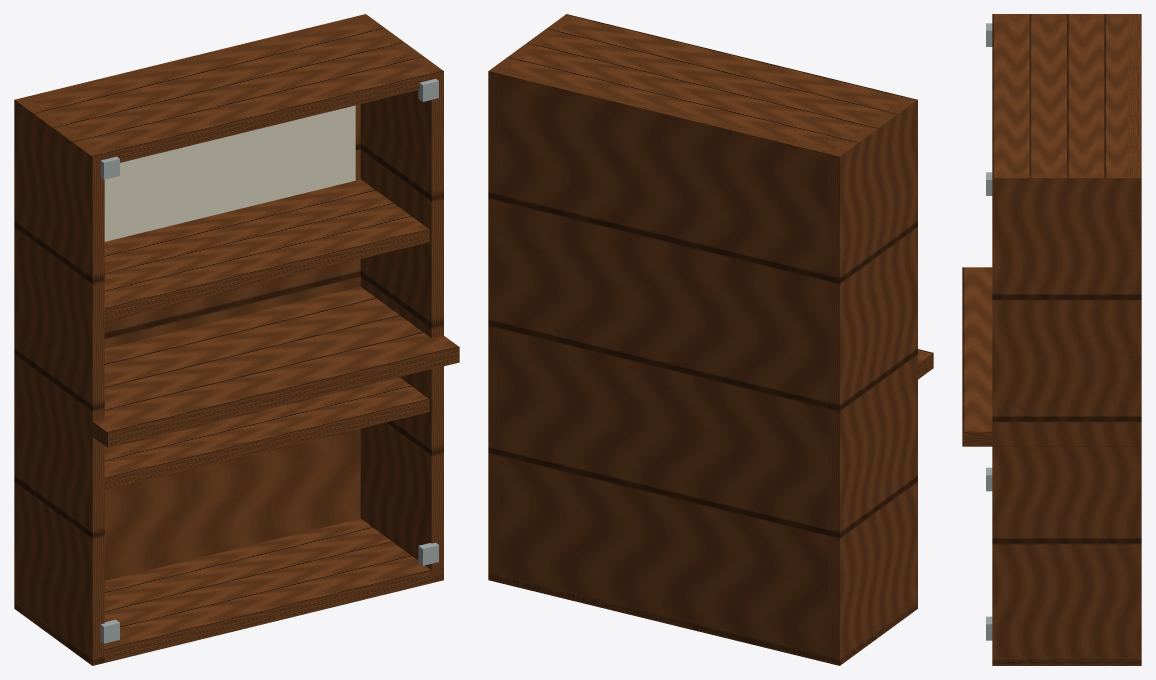
Rendered from rural-scavenging-settlements-kitchen-dresser-9b0b189a__26577.glb.
3 views of the same model, side by side, from view 1: azimuth 30°, elevation 25°; view 2: azimuth 150°, elevation 25°; view 3: azimuth 270°, elevation 25° (orthographic). The views are drawn at different scales.
Visible parts, largest first — view 1: kitchen-dresser; view 2: kitchen-dresser; view 3: kitchen-dresser.
Boxes of the visible parts, left/top/right/bottom form: kitchen-dresser: left=14, top=14, right=459, bottom=665; kitchen-dresser: left=488, top=14, right=933, bottom=665; kitchen-dresser: left=962, top=14, right=1141, bottom=665.
Bounding box in the file's own units: 1.3 × 1.8 × 0.5999.
Materials: 3 (1 with a texture image).
